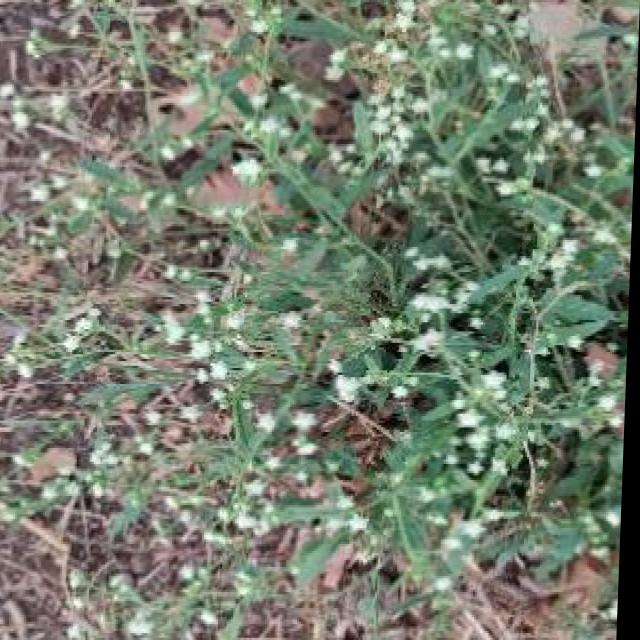weed: (72, 0, 640, 640)
